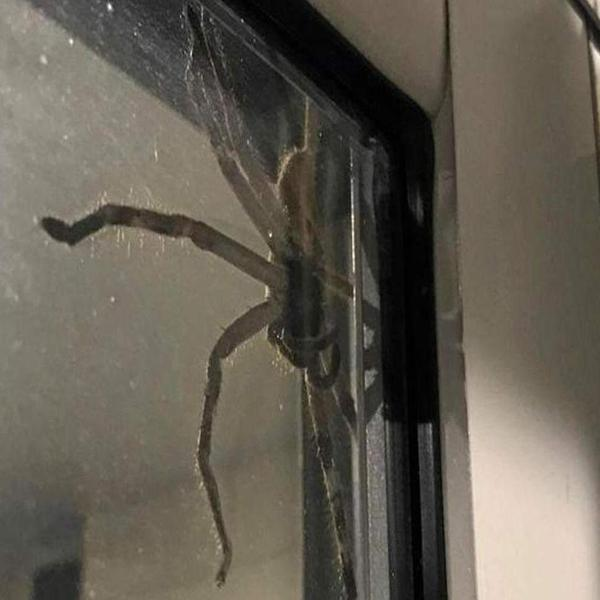Huntsman Spider: (56, 12, 377, 589)
